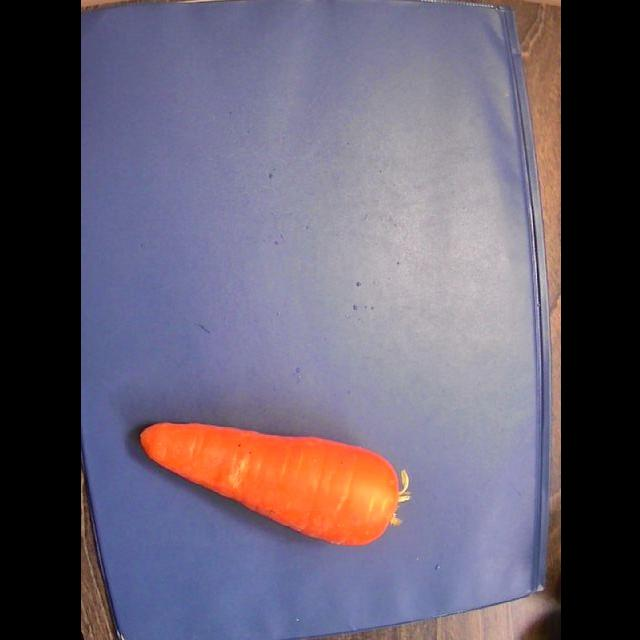zanahoria: (141, 423, 410, 545)
